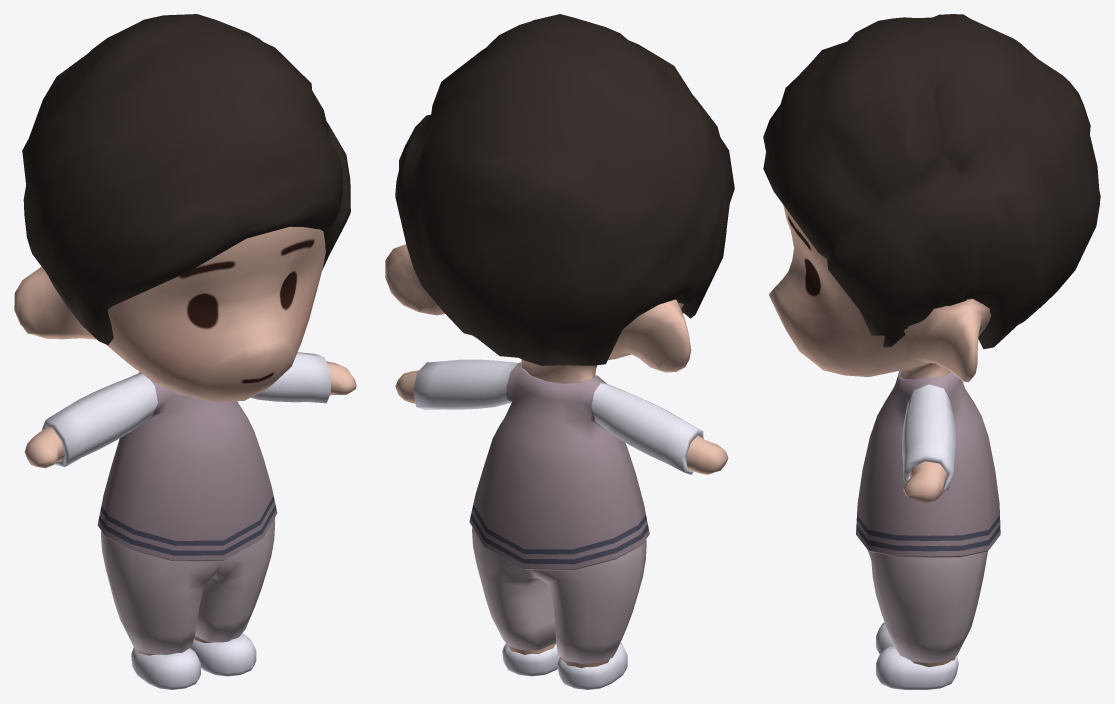
The model's file is BANG TAMPAN.fbx.
3 renders of one model, left to right at view 1: azimuth 30°, elevation 25°; view 2: azimuth 150°, elevation 25°; view 3: azimuth 270°, elevation 25°, orthographic.
Parts seen in each view (by area): view 1: RambutL1.001, Character LP.020, Character LP.018, Character LP.019, Character LP.017; view 2: RambutL1.001, Character LP.020, Character LP.019, Character LP.018, Character LP.017; view 3: RambutL1.001, Character LP.020, Character LP.018, Character LP.019, Character LP.017.
Part boxes in pixels (x1,y1,x2,y2): RambutL1.001: (22, 14, 350, 344); Character LP.020: (41, 352, 330, 561); Character LP.018: (14, 226, 356, 655); Character LP.019: (101, 518, 275, 654); Character LP.017: (131, 633, 256, 689); RambutL1.001: (395, 14, 734, 365); Character LP.020: (413, 359, 703, 570); Character LP.019: (472, 527, 646, 663); Character LP.018: (385, 244, 728, 668); Character LP.017: (502, 642, 627, 689); RambutL1.001: (763, 14, 1100, 348); Character LP.020: (856, 370, 1000, 557); Character LP.018: (769, 205, 991, 667); Character LP.019: (867, 549, 987, 663); Character LP.017: (876, 622, 958, 689).
Size of the model in its own units: 1.41 by 2.63 by 1.26.
